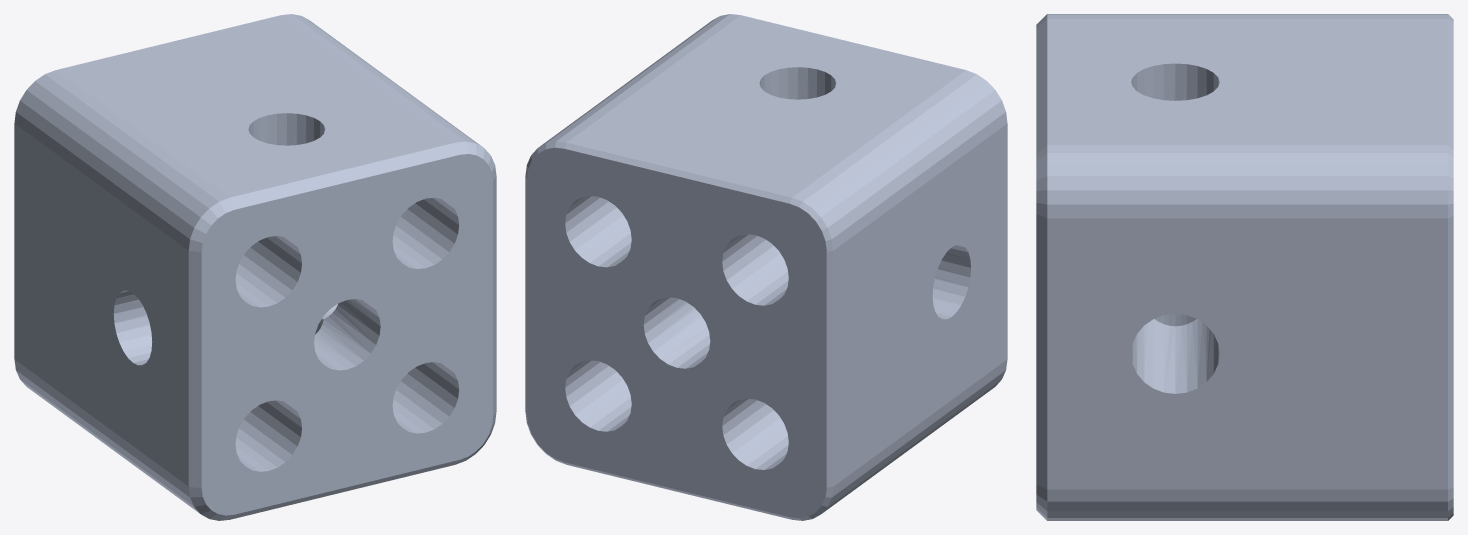
Rendered from Chamfer21_02_Chamfer21.obj.
3 renders of one model, left to right at view 1: azimuth 30°, elevation 25°; view 2: azimuth 150°, elevation 25°; view 3: azimuth 270°, elevation 25°, orthographic. The views are drawn at different scales.
Size of the model in its own units: 0.0187 by 0.0187 by 0.0191.
